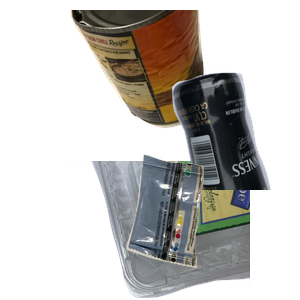glass: (106, 70, 300, 250)
metal: (68, 10, 265, 131)
plastic: (23, 161, 263, 300)
trash: (124, 152, 300, 300)
